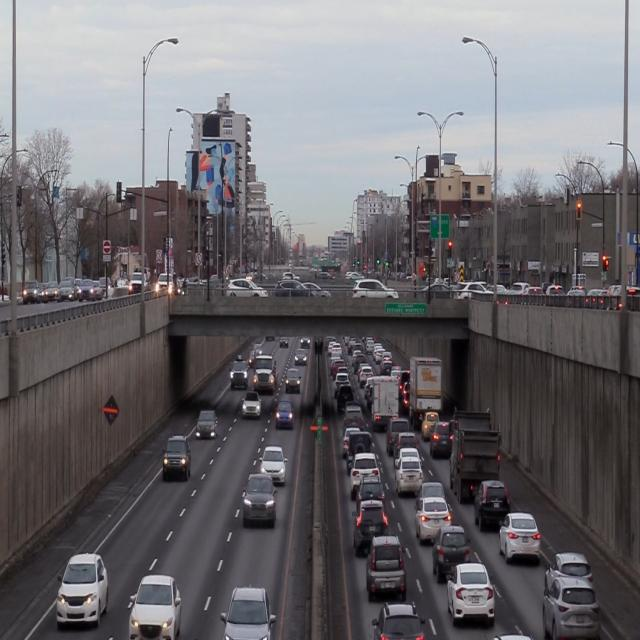Vehicle: (450, 416, 502, 502), (58, 552, 110, 628), (542, 580, 603, 640), (128, 576, 182, 640), (448, 566, 499, 626), (223, 584, 276, 640), (363, 540, 407, 594), (371, 603, 431, 640), (500, 514, 542, 563), (432, 525, 471, 576), (546, 548, 595, 586), (352, 499, 389, 549), (245, 472, 277, 527), (414, 500, 452, 540), (475, 484, 510, 526), (164, 436, 192, 480), (260, 444, 288, 486), (397, 457, 424, 497), (254, 350, 279, 392), (357, 477, 388, 509), (241, 392, 263, 420), (229, 360, 249, 390), (276, 399, 295, 430), (198, 410, 218, 439), (286, 368, 301, 393)
